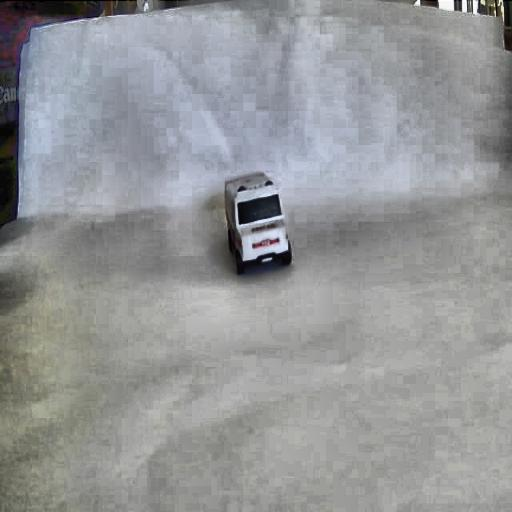ambulance: (224, 171, 292, 274)
